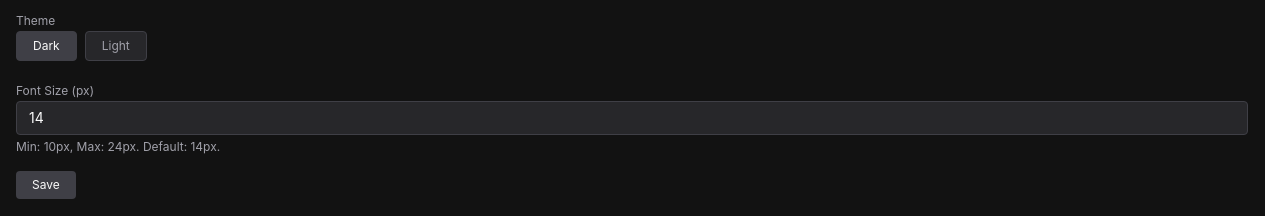
Scenario: AppearanceTab — fonts load and persist › shows 'Save failed' when persisting throws
Expected: the number field showing "14" is shown, left=16, top=101, right=1248, bottom=135
Click the button "Save" at {"x": 46, "y": 185}, box left=16, top=171, right=76, bottom=199
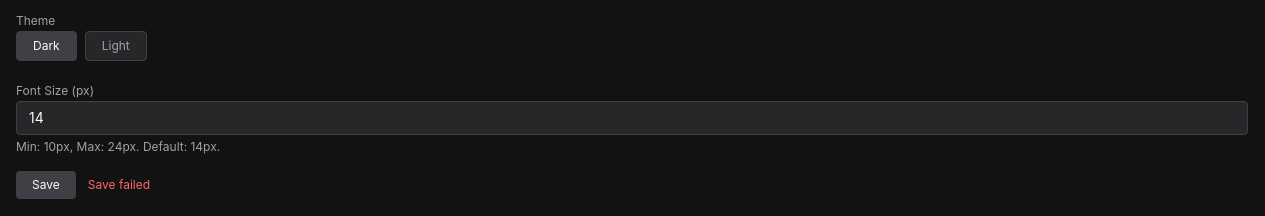
Expected: the text "Save failed" is shown, left=88, top=177, right=150, bottom=193
